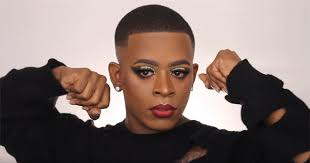black_male: (102, 1, 206, 131)
